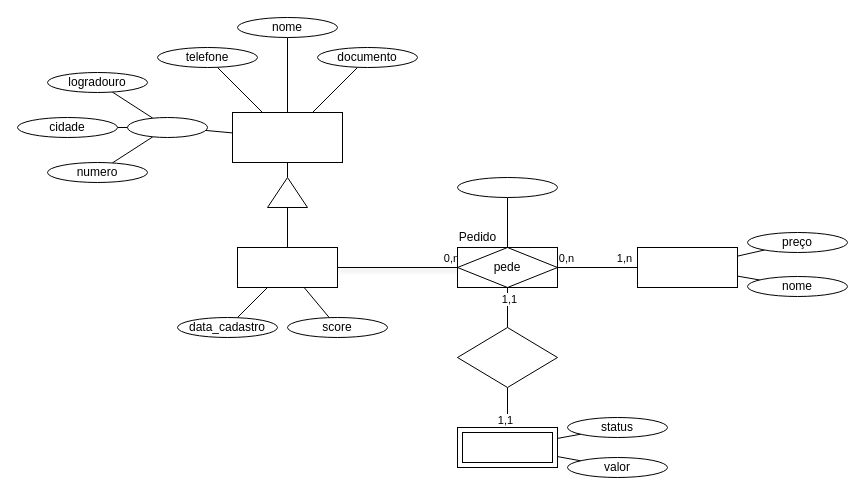
This 865x495 diagram has some shape labels left out. The centre of each missing label's shape, as x and y in pixels:
Cliente: the point at 287,267
data_compra: the point at 507,187
endereço: the point at 167,127
pagamento: the point at 507,447
Pessoa: the point at 287,137
possui: the point at 507,357
produto: the point at 687,267
